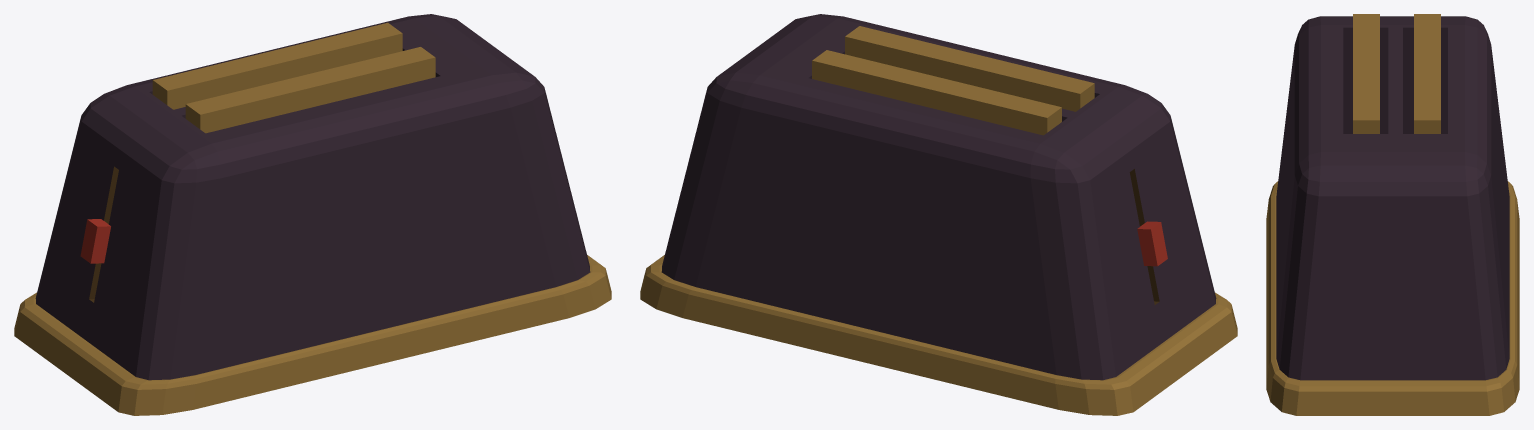
File: Toaster.fbx
The picture shows the model from 3 angles, left to right: view 1: azimuth 30°, elevation 25°; view 2: azimuth 150°, elevation 25°; view 3: azimuth 270°, elevation 25°; orthographic projection. The views are drawn at different scales.
Visible parts, largest first — view 1: Cube.006, Cube.008, Cube.007, Cube.010; view 2: Cube.006, Cube.007, Cube.008, Cube.010; view 3: Cube.006, Cube.007, Cube.008.
Boxes of the visible parts, <box> form: Cube.006: <box>14,14,611,415</box>; Cube.008: <box>185,47,435,133</box>; Cube.007: <box>152,22,402,109</box>; Cube.010: <box>80,219,110,263</box>; Cube.006: <box>640,14,1237,415</box>; Cube.007: <box>812,50,1061,135</box>; Cube.008: <box>845,26,1094,111</box>; Cube.010: <box>1137,221,1167,266</box>; Cube.006: <box>1266,16,1519,415</box>; Cube.007: <box>1414,14,1440,133</box>; Cube.008: <box>1353,14,1379,133</box>.
Size of the model in its own units: 797 by 384 by 382.
